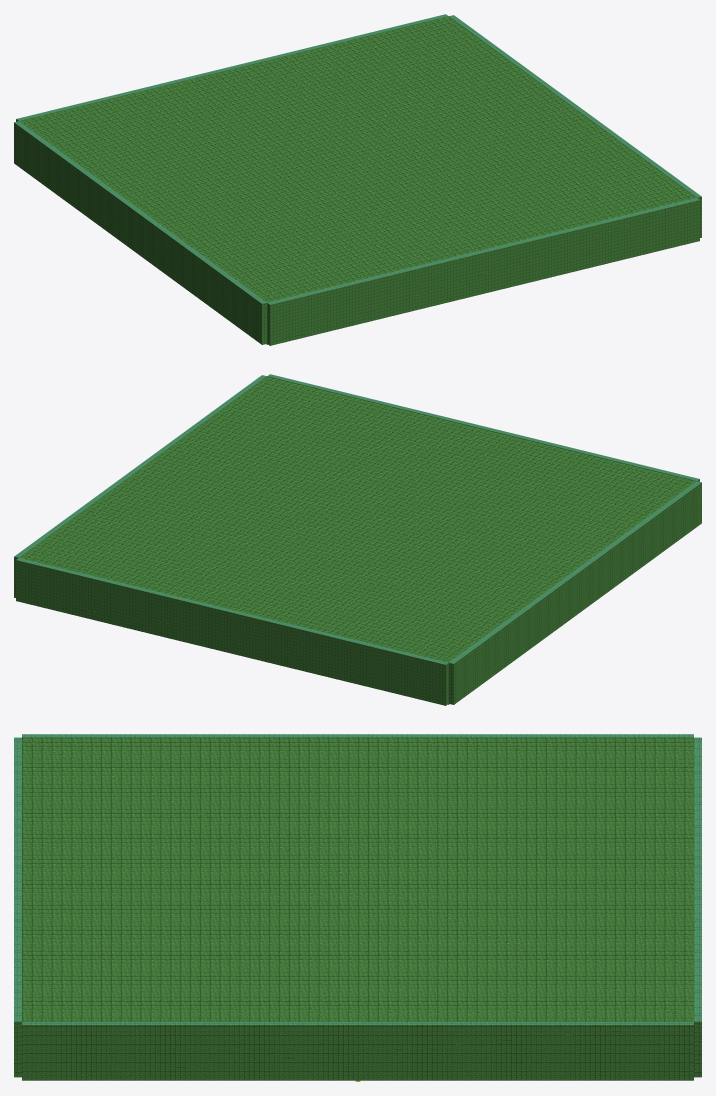
File: derelict-starship.glb
3 views of the same model, one above another, from view 1: azimuth 30°, elevation 25°; view 2: azimuth 150°, elevation 25°; view 3: azimuth 270°, elevation 25° (orthographic). The views are drawn at different scales.
Parts seen in each view (by area): view 1: ART_derelict-starship_low_ship_ceiling, ART_derelict-starship_outer_north, ART_derelict-starship_outer_west, ART_derelict-starship_outer_south, ART_derelict-starship_outer_east, WALKABLE_derelict-starship_outer_north, WALKABLE_derelict-starship_outer_south, WALKABLE_derelict-starship_outer_east, WALKABLE_derelict-starship_outer_west; view 2: ART_derelict-starship_low_ship_ceiling, ART_derelict-starship_outer_south, ART_derelict-starship_outer_west, ART_derelict-starship_outer_north, ART_derelict-starship_outer_east, WALKABLE_derelict-starship_outer_north, WALKABLE_derelict-starship_outer_south, WALKABLE_derelict-starship_outer_east, WALKABLE_derelict-starship_outer_west; view 3: ART_derelict-starship_low_ship_ceiling, ART_derelict-starship_outer_east, ART_derelict-starship_outer_north, ART_derelict-starship_outer_south, ART_derelict-starship_outer_west, WALKABLE_derelict-starship_outer_west, WALKABLE_derelict-starship_outer_north, WALKABLE_derelict-starship_outer_south, WALKABLE_derelict-starship_outer_east.
Boxes of the visible parts, x1,y1,x2,y2 form: ART_derelict-starship_low_ship_ceiling: (19,16,695,302); ART_derelict-starship_outer_north: (267,198,699,345); ART_derelict-starship_outer_west: (14,121,267,344); ART_derelict-starship_outer_south: (16,14,448,121); ART_derelict-starship_outer_east: (449,15,701,237); WALKABLE_derelict-starship_outer_north: (268,198,698,304); WALKABLE_derelict-starship_outer_south: (17,14,447,120); WALKABLE_derelict-starship_outer_east: (449,15,701,197); WALKABLE_derelict-starship_outer_west: (14,121,266,303); ART_derelict-starship_low_ship_ceiling: (20,376,696,662); ART_derelict-starship_outer_south: (16,558,448,705); ART_derelict-starship_outer_west: (448,481,701,704); ART_derelict-starship_outer_north: (267,374,699,481); ART_derelict-starship_outer_east: (14,375,266,597); WALKABLE_derelict-starship_outer_north: (268,374,698,480); WALKABLE_derelict-starship_outer_south: (17,558,447,664); WALKABLE_derelict-starship_outer_east: (14,375,266,557); WALKABLE_derelict-starship_outer_west: (449,481,701,663); ART_derelict-starship_low_ship_ceiling: (22,738,693,1021); ART_derelict-starship_outer_east: (22,1021,693,1080); ART_derelict-starship_outer_north: (14,737,21,1077); ART_derelict-starship_outer_south: (694,737,701,1077); ART_derelict-starship_outer_west: (22,734,693,737); WALKABLE_derelict-starship_outer_west: (22,734,693,737); WALKABLE_derelict-starship_outer_north: (14,737,21,1021); WALKABLE_derelict-starship_outer_south: (694,737,701,1021); WALKABLE_derelict-starship_outer_east: (22,1022,693,1024).
Size of what is drawn, in the model's own units: 34.8 by 11.23 by 34.8.
6 materials, 4 textured.
